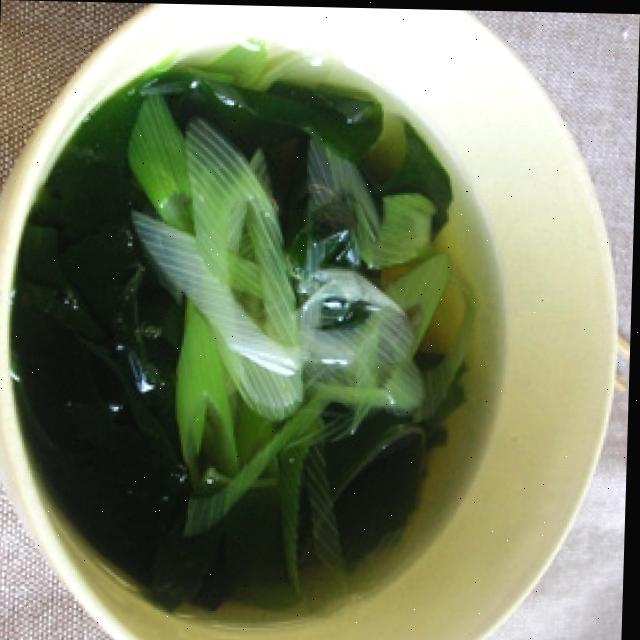汤锅炖物: (0, 23, 528, 631)
